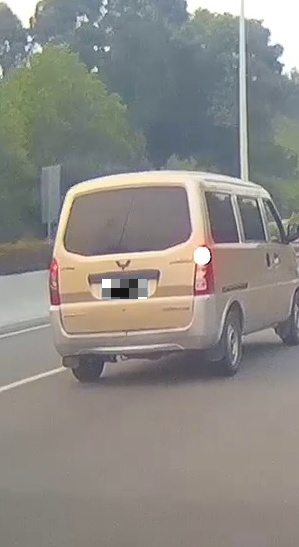L_light: (49, 257, 61, 306)
R_light: (193, 245, 216, 296)
T_light: (113, 187, 142, 192)
day-right: (48, 170, 218, 383)
plate_1: (102, 279, 147, 299)
